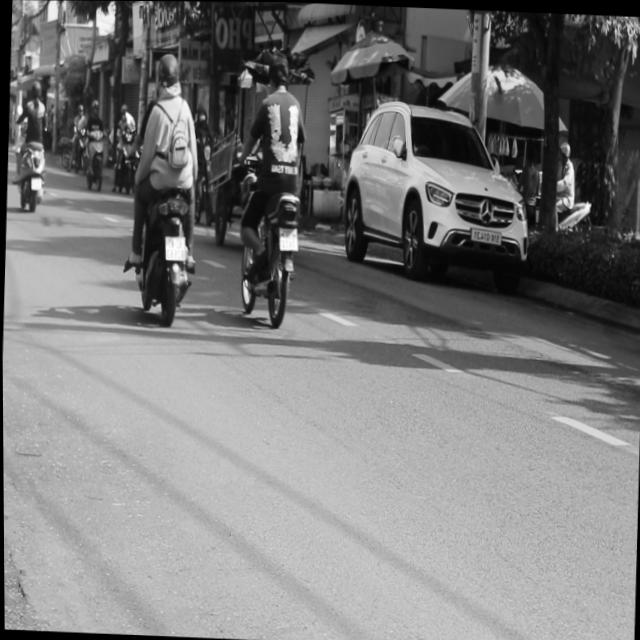helmet: (154, 50, 183, 95)
licenseplate: (121, 48, 205, 323), (231, 47, 310, 325)
motorcyclist: (267, 50, 291, 91)
nohelmet: (163, 233, 184, 259), (277, 227, 298, 249)
